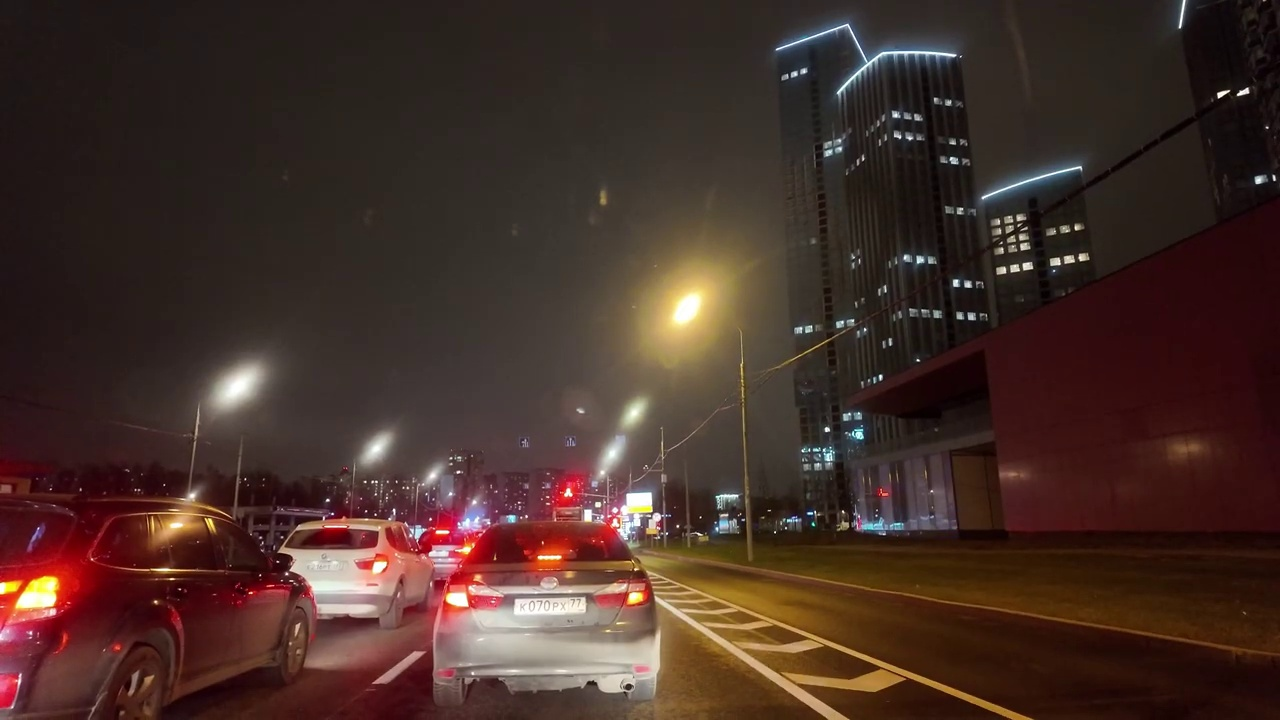acesa: (660, 280, 718, 340), (208, 361, 263, 415), (357, 430, 394, 468), (617, 395, 649, 429)
